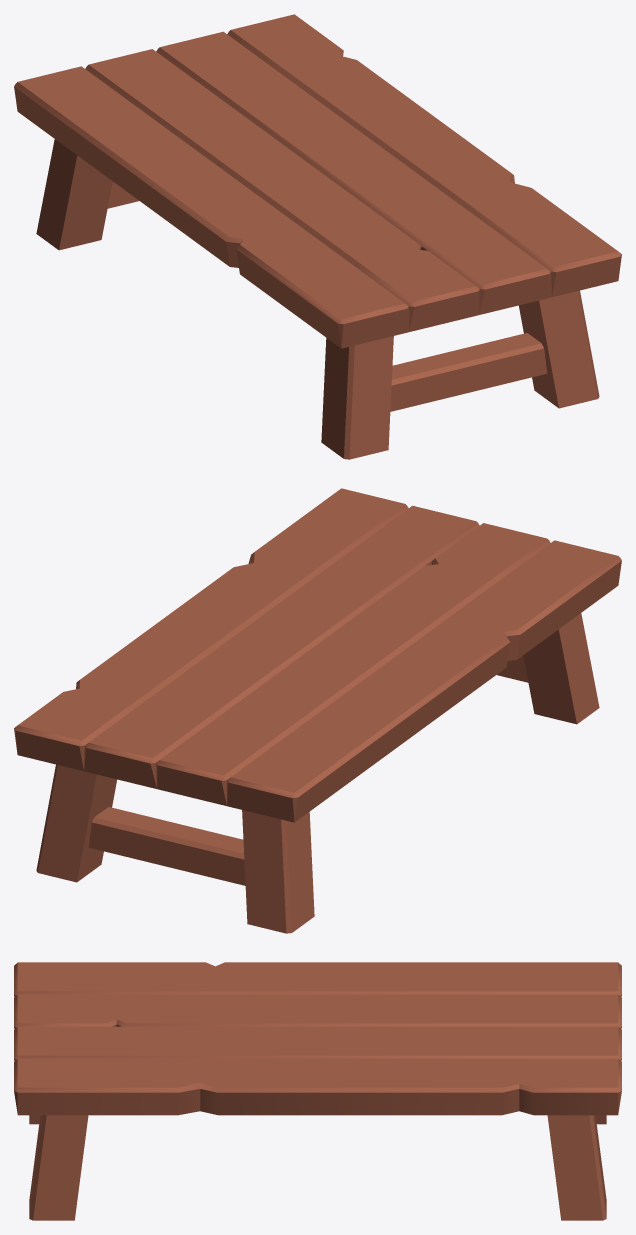
File: lowTable.fbx
3 renders of one model, top to bottom at view 1: azimuth 30°, elevation 25°; view 2: azimuth 150°, elevation 25°; view 3: azimuth 270°, elevation 25°, orthographic. The views are drawn at different scales.
Parts seen in each view (by area): view 1: table_long; view 2: table_long; view 3: table_long.
Part boxes in pixels (x1=…): table_long: x1=14, y1=14, x2=621, y2=459; table_long: x1=14, y1=488, x2=621, y2=933; table_long: x1=14, y1=962, x2=621, y2=1220.
Size of the model in its own units: 200 by 100 by 400.
